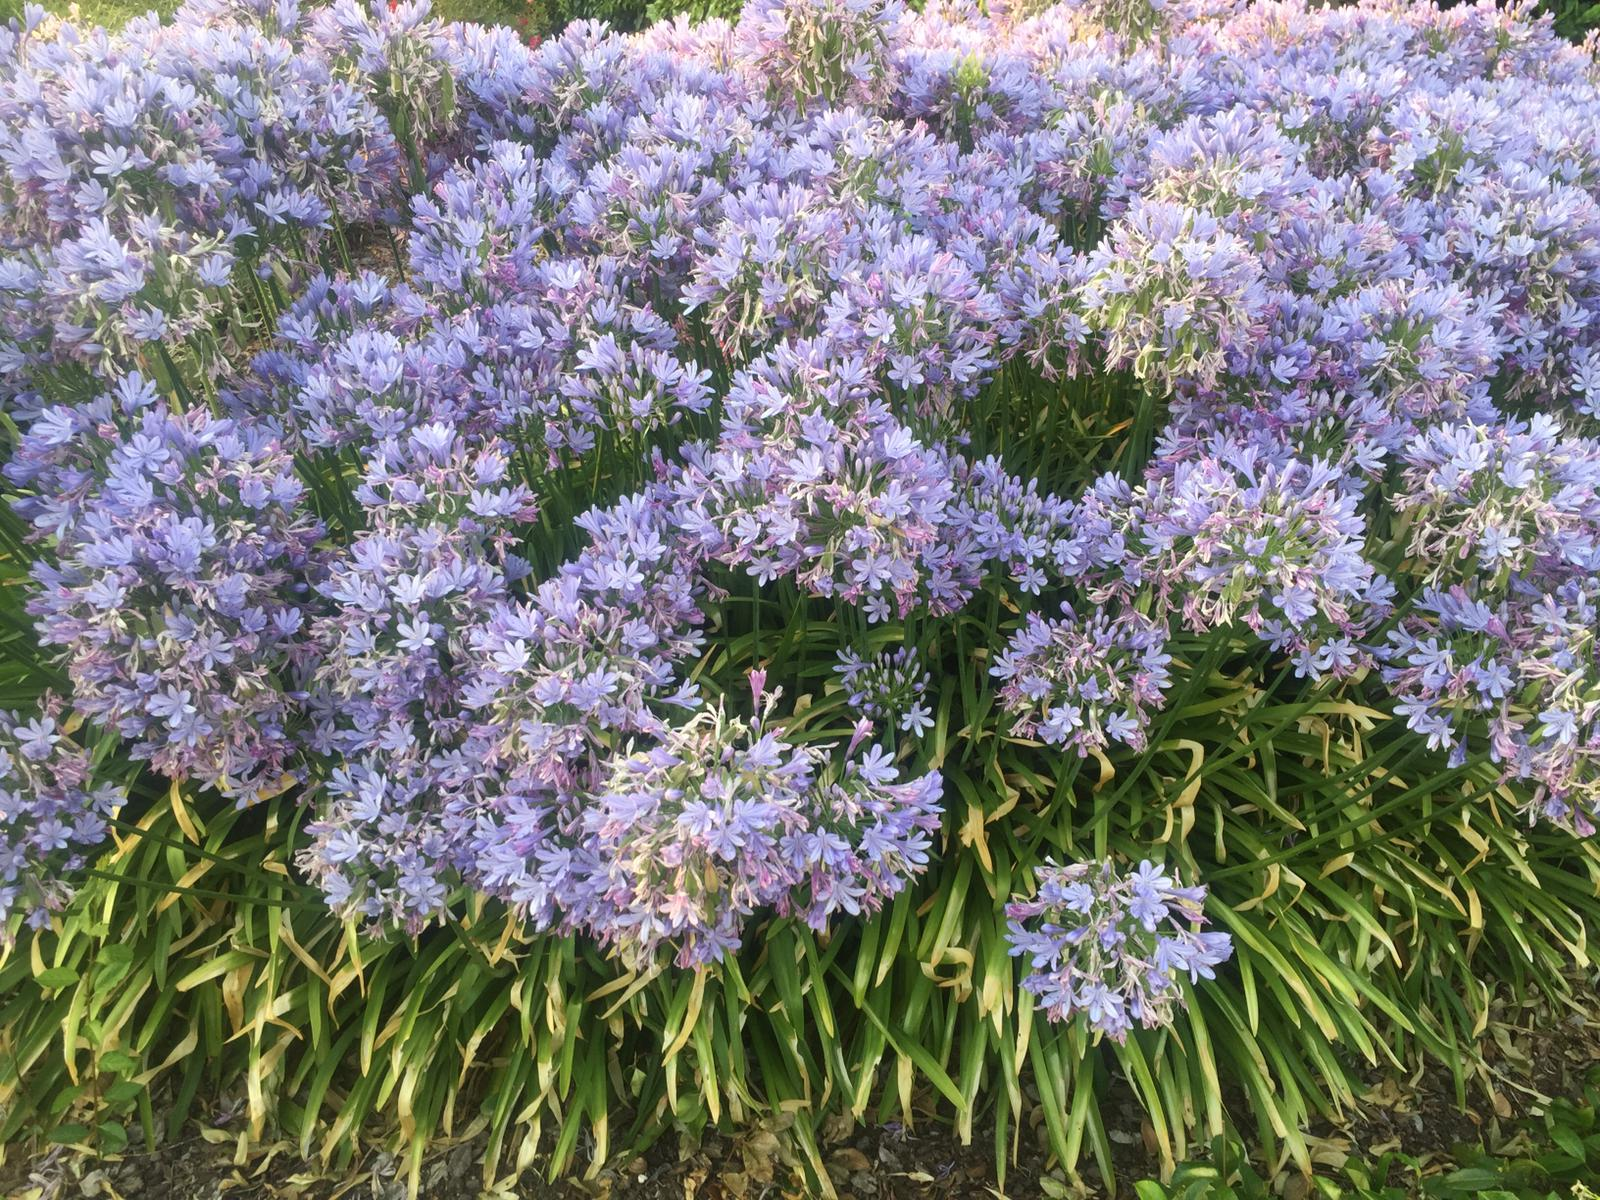plants: (6, 272, 1600, 783), (6, 783, 1600, 1200)
